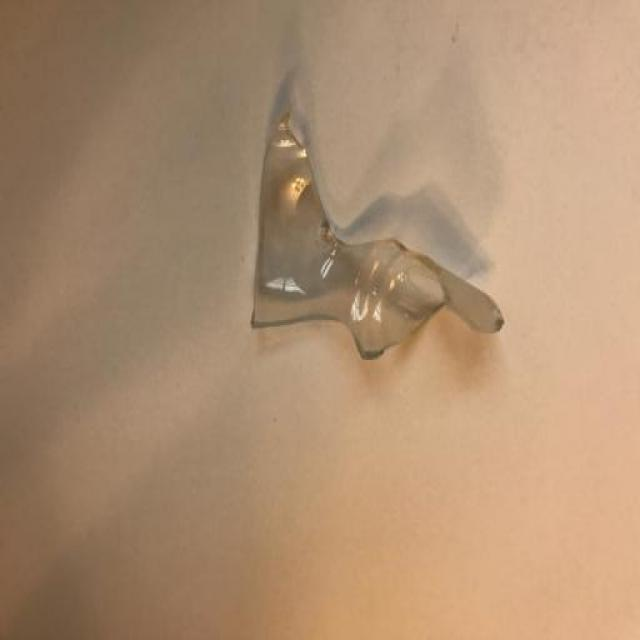glass: (248, 104, 510, 364)
